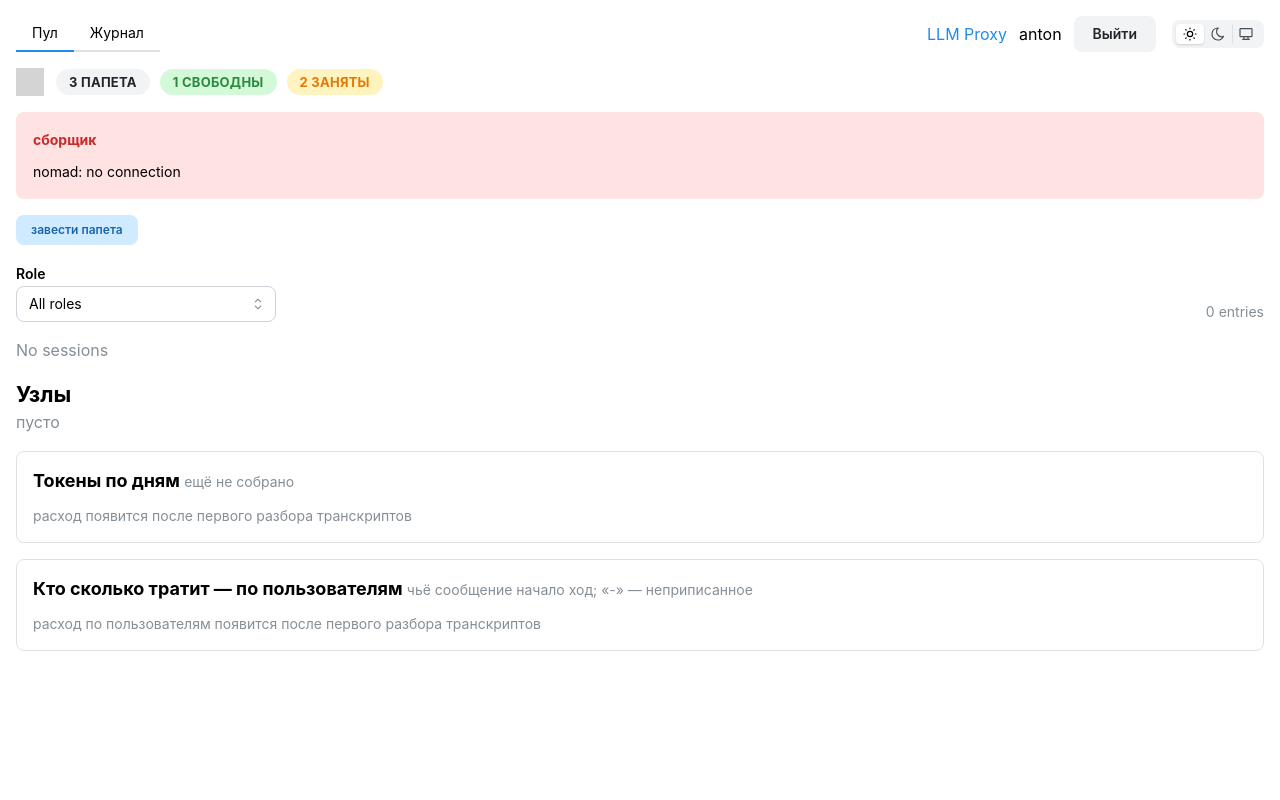
Test: #416 logout returns to the guest header
Click the button "Выйти": [1115, 34] box x1=1074 y1=16 x2=1156 y2=52
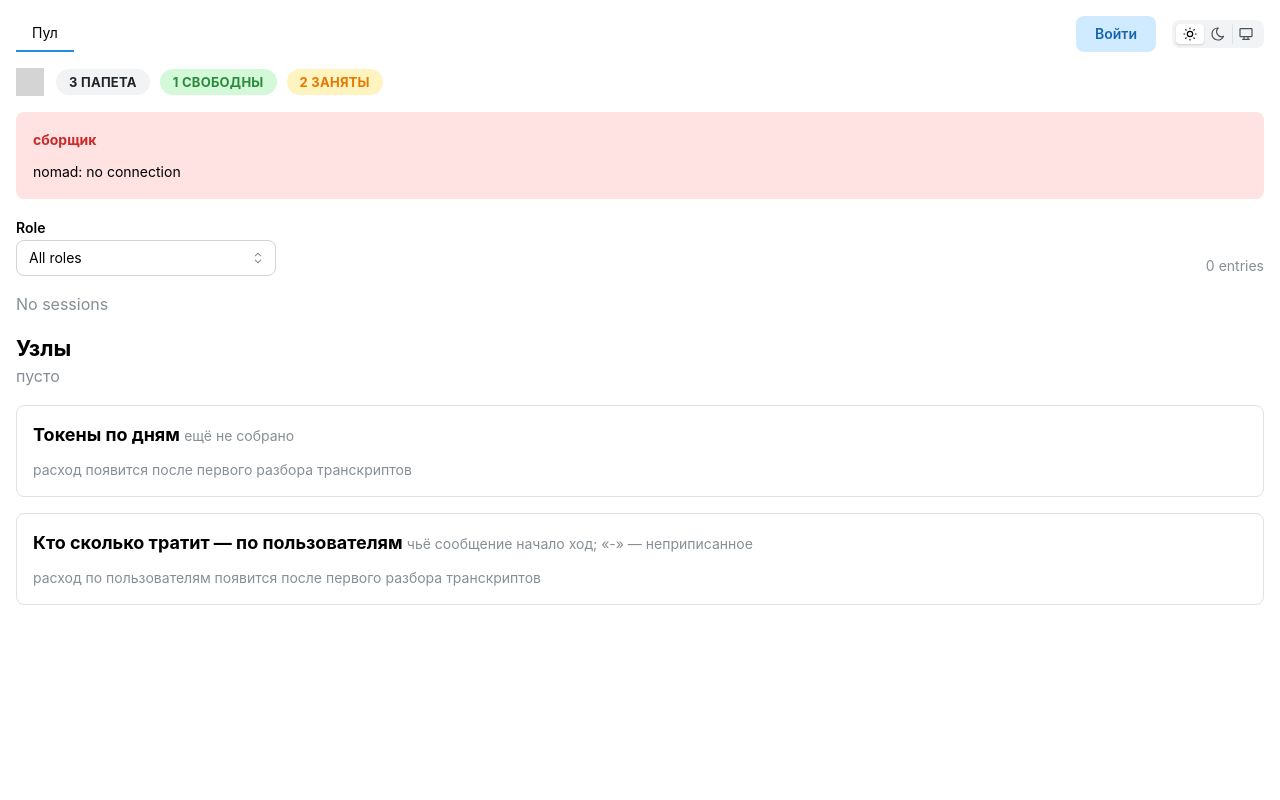
Now the button "Войти" is shown, box x1=1076 y1=16 x2=1156 y2=52
